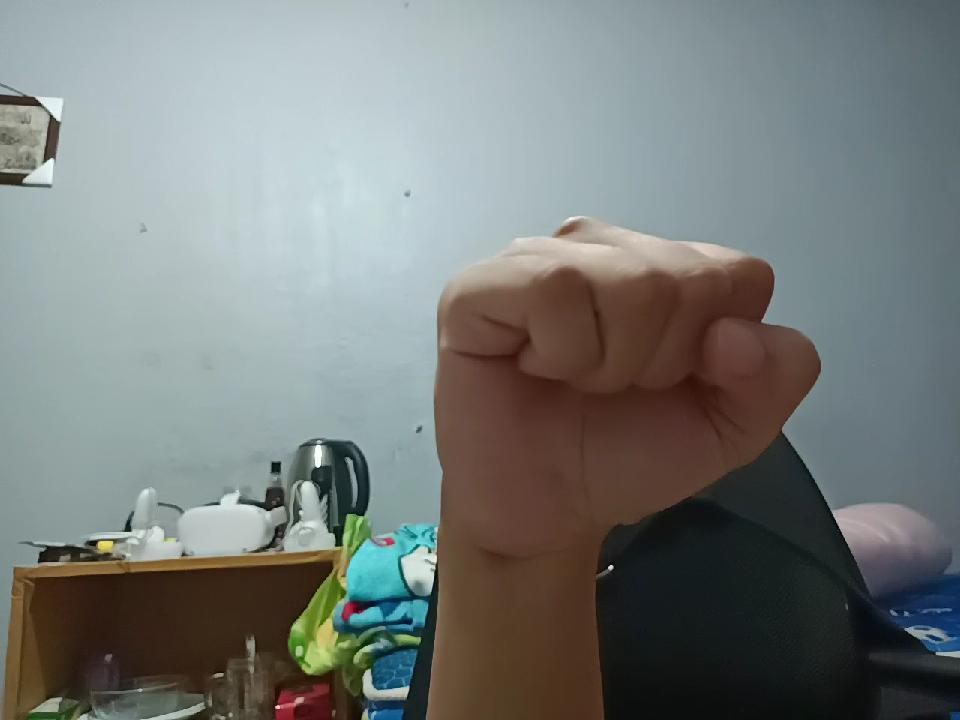rock: (448, 226, 792, 558)
